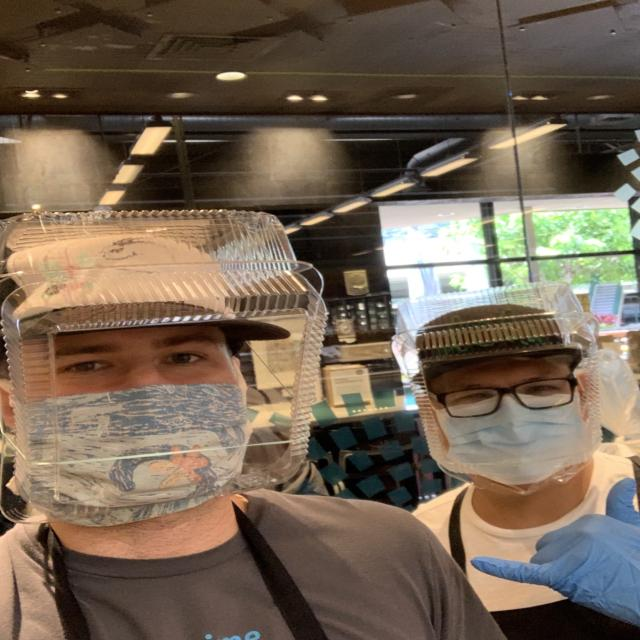hat: (10, 213, 301, 341), (415, 304, 583, 365)
